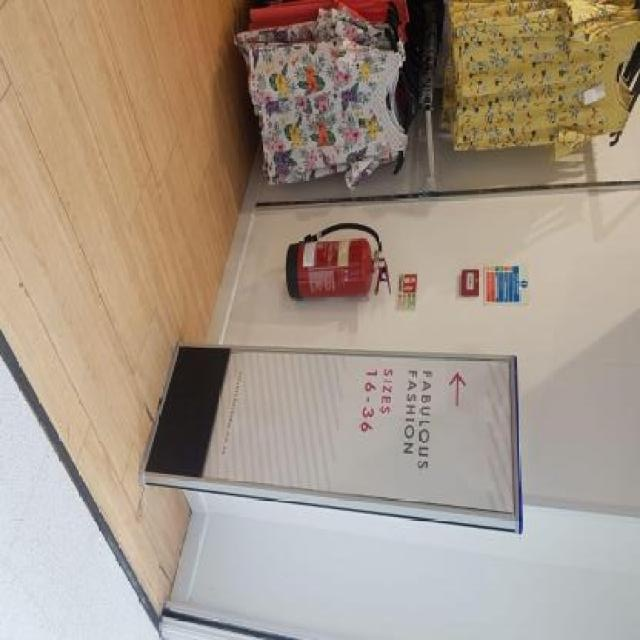fire extinguisher: (285, 226, 389, 302)
